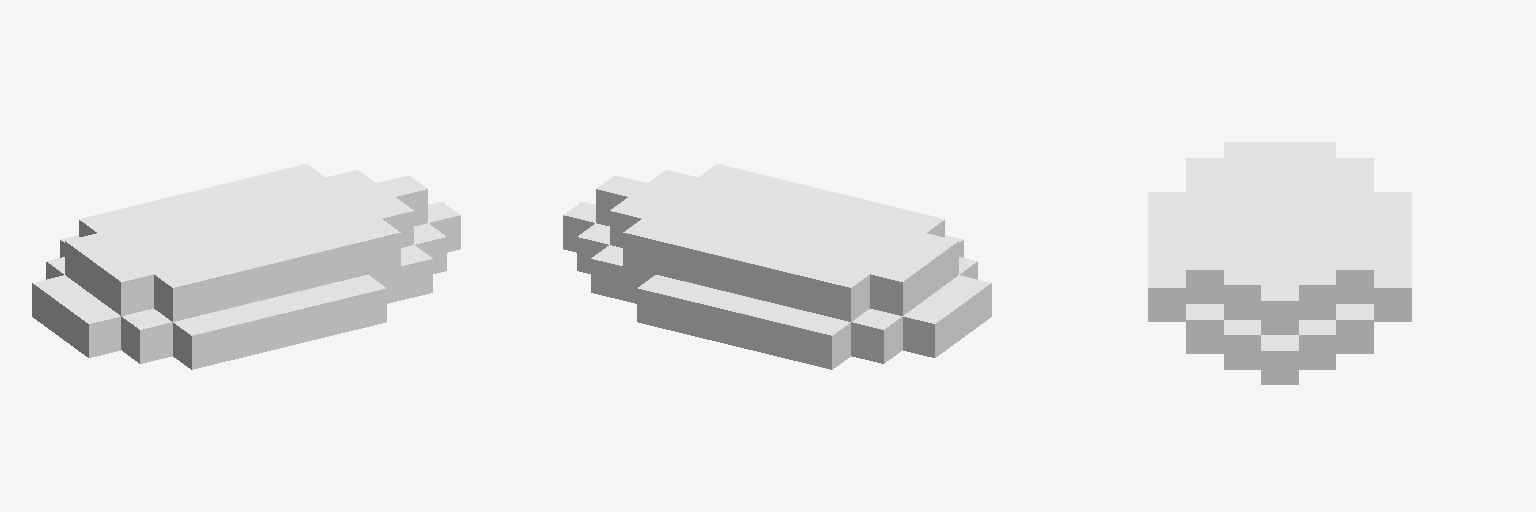
The model's file is petalVox.obj.
3 renders of one model, left to right at view 1: azimuth 30°, elevation 25°; view 2: azimuth 150°, elevation 25°; view 3: azimuth 270°, elevation 25°, orthographic.
Bounding box in the file's own units: 12 × 2 × 7.